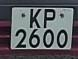0: (42, 28, 57, 49), (56, 27, 69, 50)
2: (14, 28, 28, 51)
6: (28, 28, 42, 49)
K: (27, 8, 43, 31)
P: (42, 7, 57, 30)
